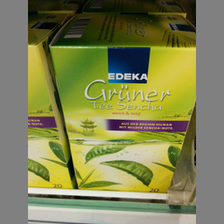tea: (48, 14, 196, 194)
